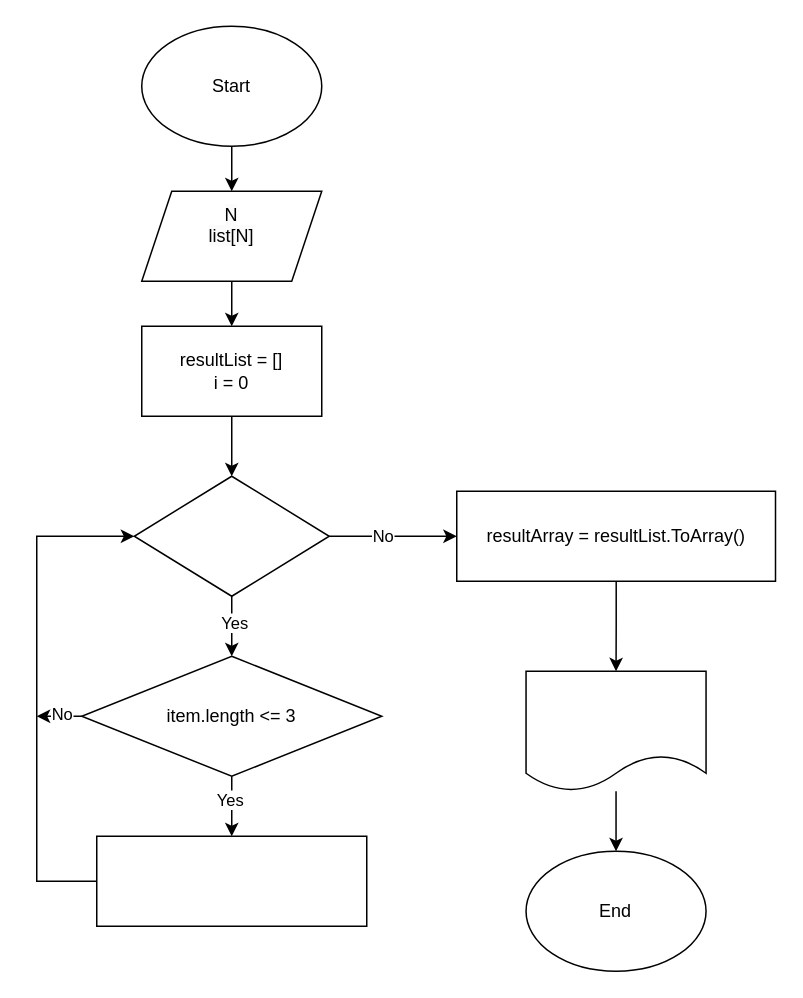
The diagram is 803 pixels wide and 998 high, and some of its shapes have lost their labels. Each missing label, with the centre of its shape:
i < N: the point at 231,535
print(resultArray): the point at 615,730
resultList.Add(item): the point at 231,880
